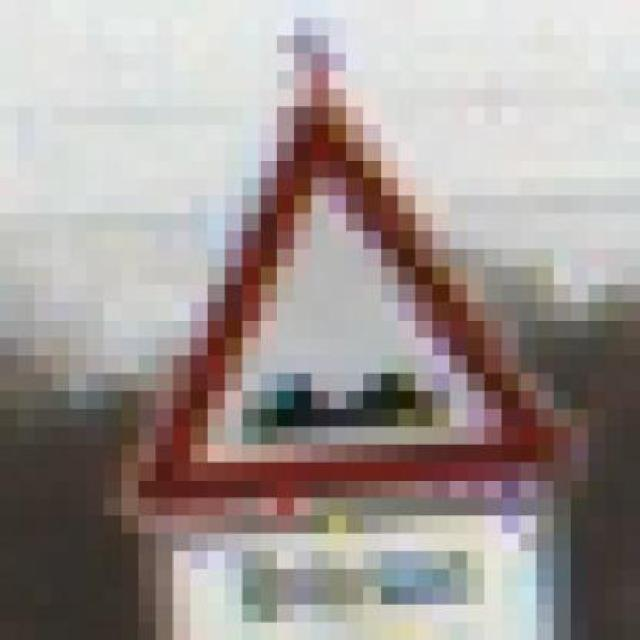Uneven Road: (104, 89, 605, 516)
